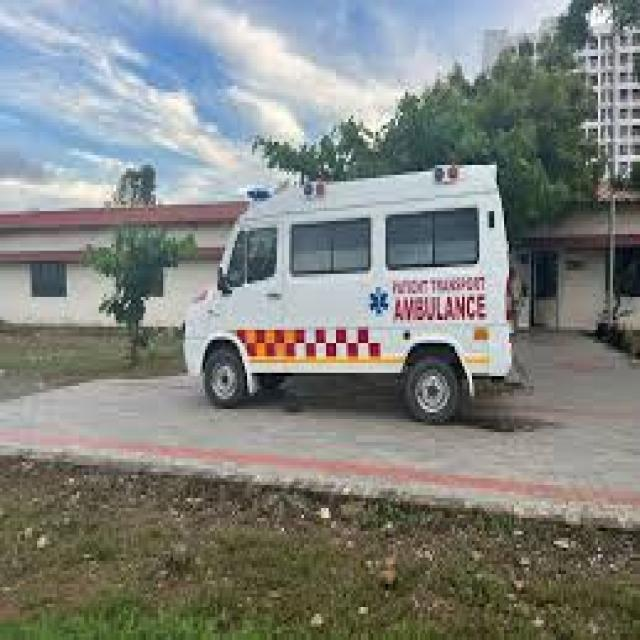ambulance: (181, 163, 518, 421)
